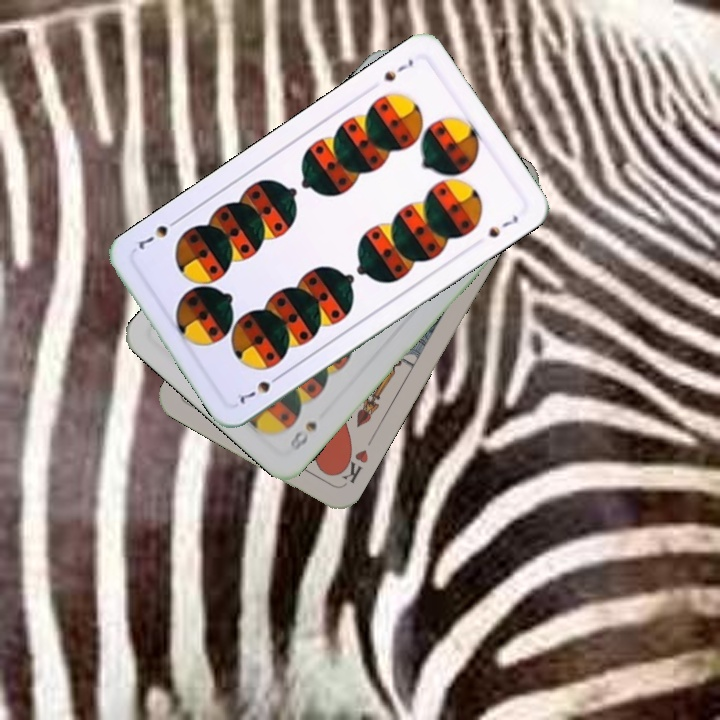HK: (333, 444, 371, 488)
S7: (233, 370, 285, 406), (380, 54, 416, 84)
S8: (285, 417, 320, 454)
